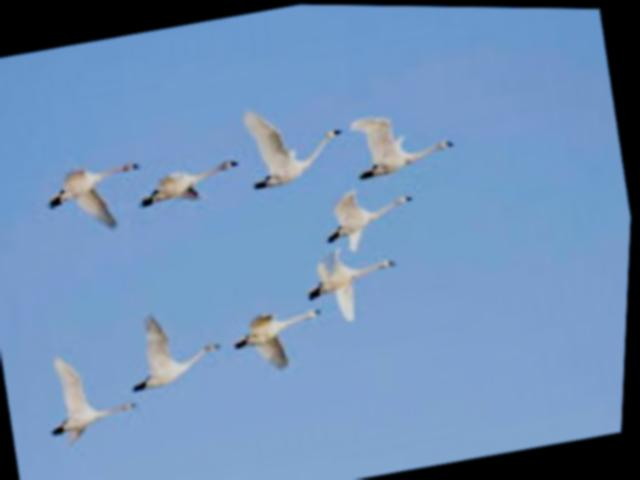flock of birds: (0, 51, 535, 480)
